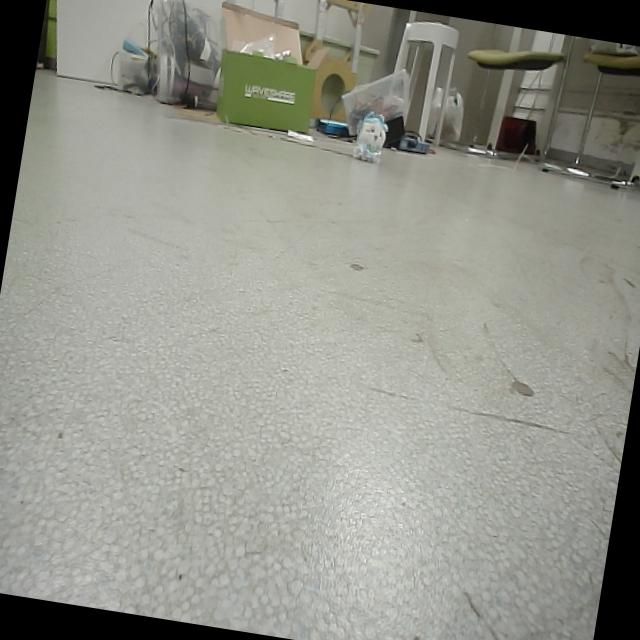xiaoba: (354, 110, 392, 168)
